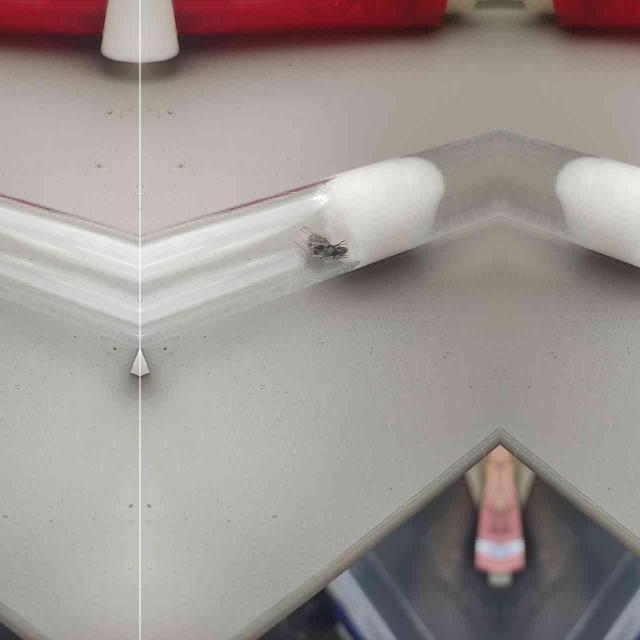Lasius: (294, 216, 354, 262)
